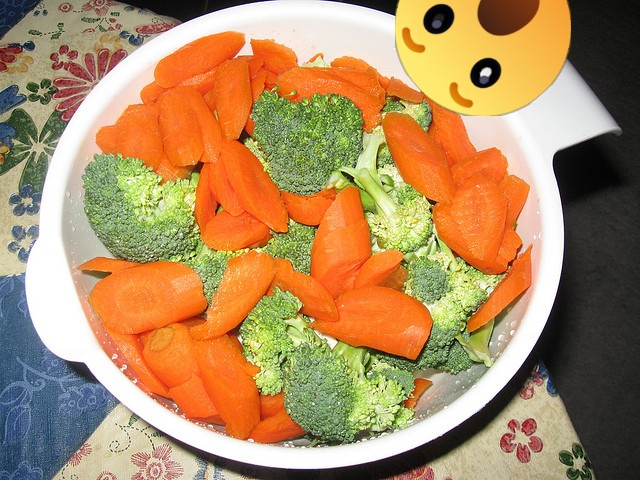wow: (395, 0, 571, 116)
